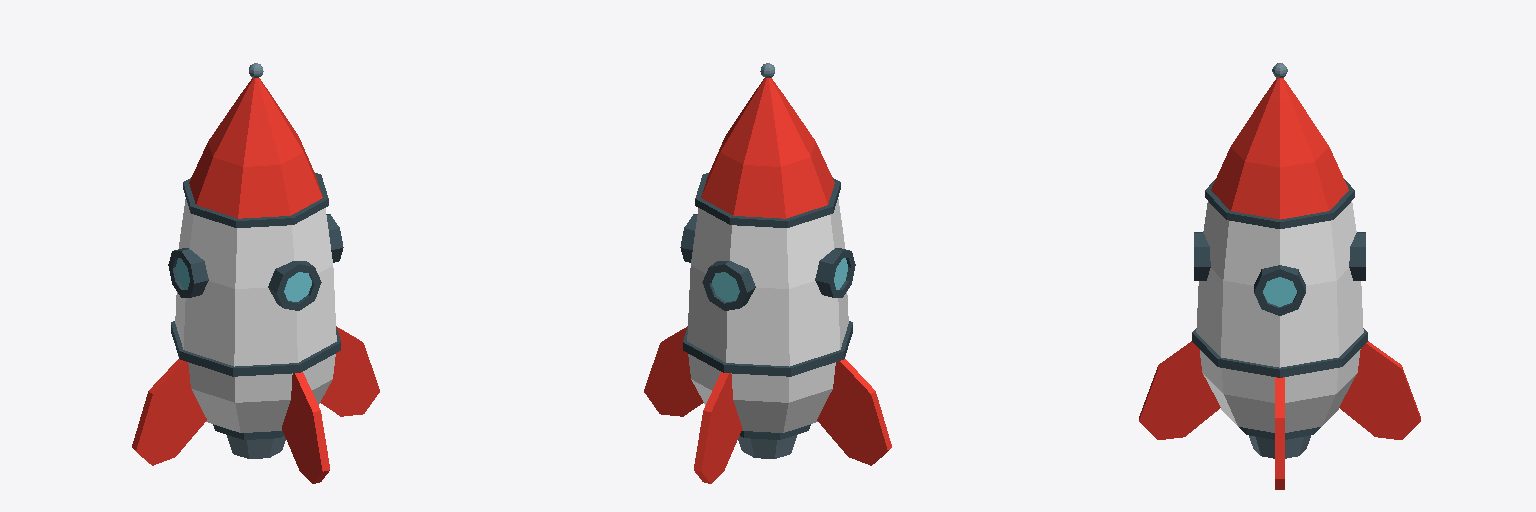
The model's file is Rocket_Ship_01.obj.
3 renders of one model, left to right at view 1: azimuth 30°, elevation 25°; view 2: azimuth 150°, elevation 25°; view 3: azimuth 270°, elevation 25°, orthographic.
Parts seen in each view (by area): view 1: Rocket_Ship_Circle.003; view 2: Rocket_Ship_Circle.003; view 3: Rocket_Ship_Circle.003.
Part boxes in pixels (bbox=[...]): Rocket_Ship_Circle.003: bbox=[132, 63, 379, 483]; Rocket_Ship_Circle.003: bbox=[644, 63, 891, 483]; Rocket_Ship_Circle.003: bbox=[1139, 63, 1420, 489].
Bounding box in the file's own units: 6.59 × 9.92 × 6.59.